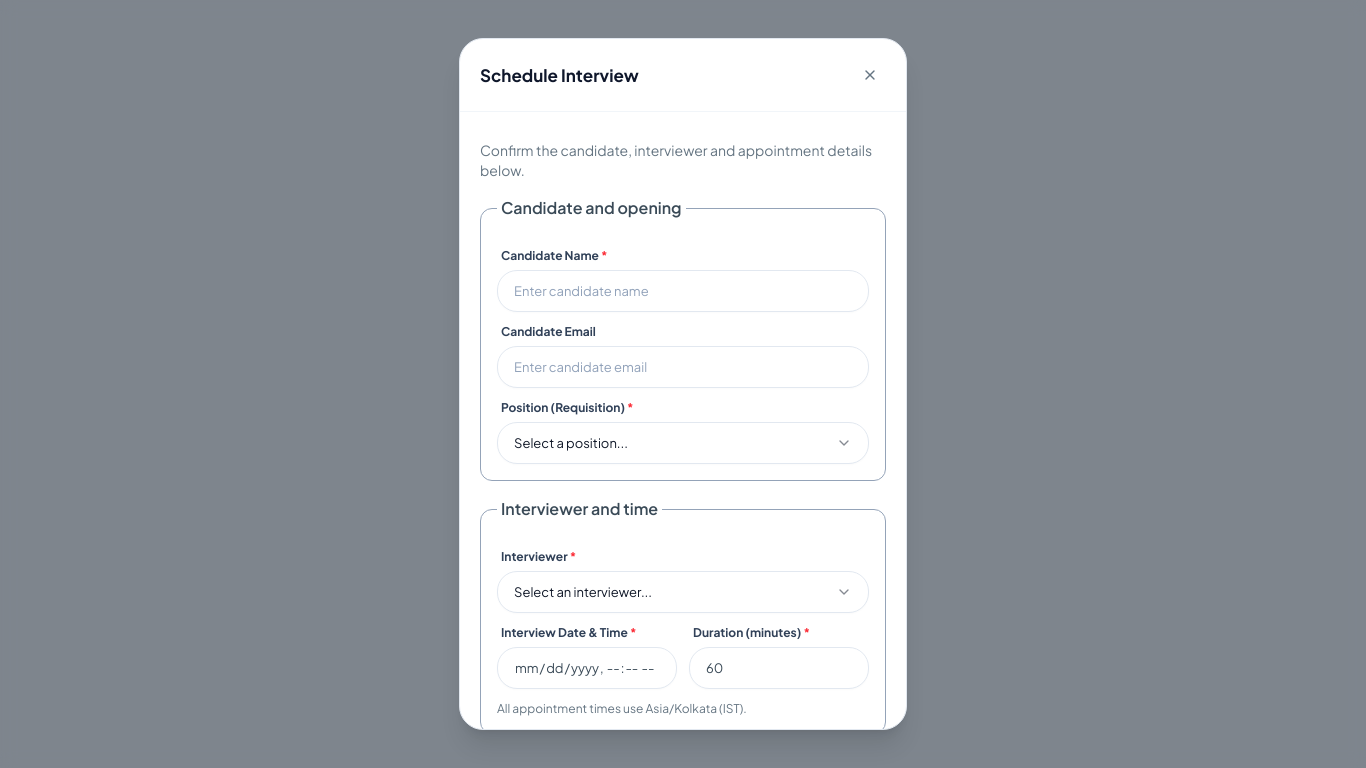
Test: Interview scheduling requisition choices › offers only open requisitions for new candidates
The image size is (1366, 768).
Click the button labelled "Select a position..." at [571, 443], box [497,422,869,464]
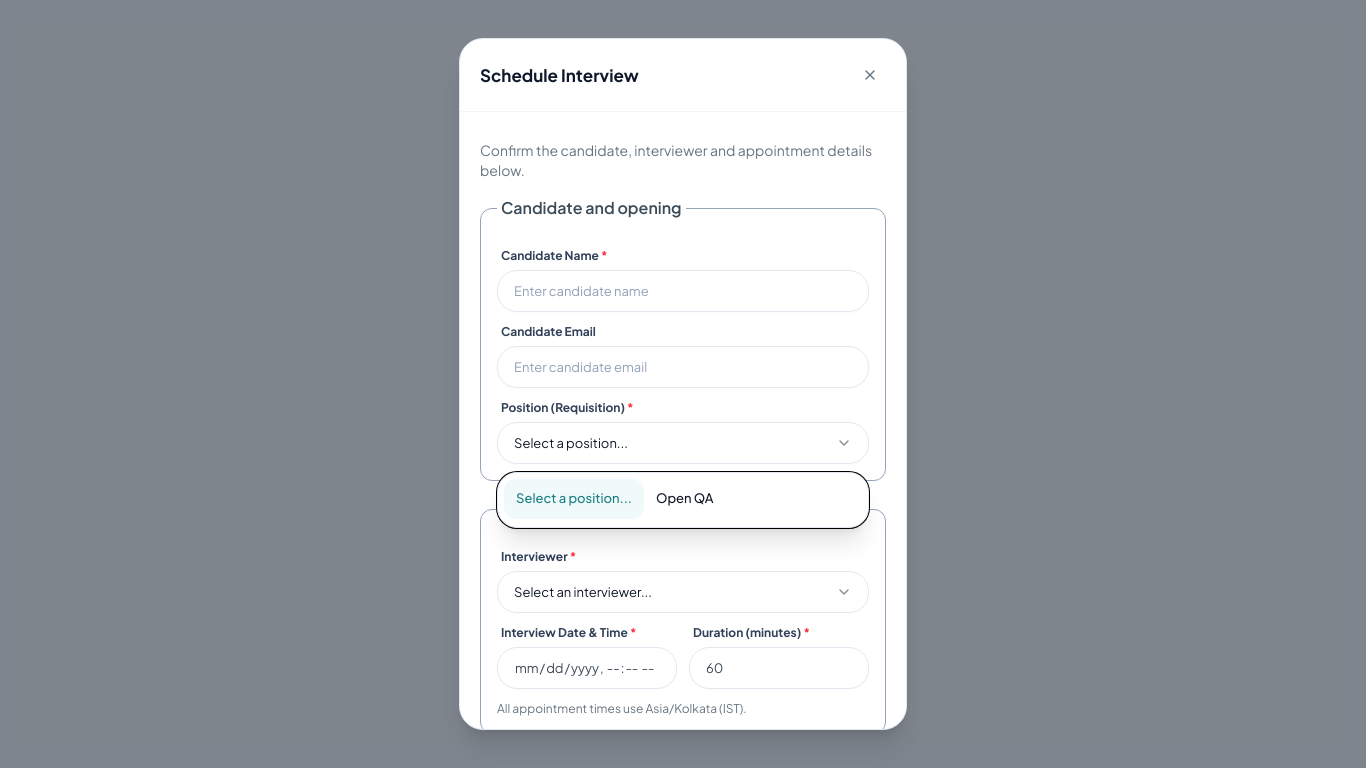
Expected: the option "Open QA" is shown, [644,479,726,519]
